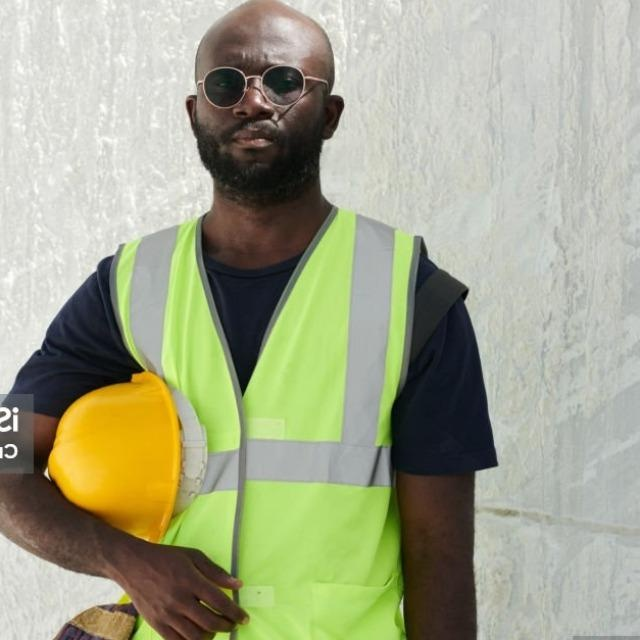Con_Chaleco: (114, 209, 435, 640)
Sin_Casco_Mascarrilla: (183, 0, 348, 205)
